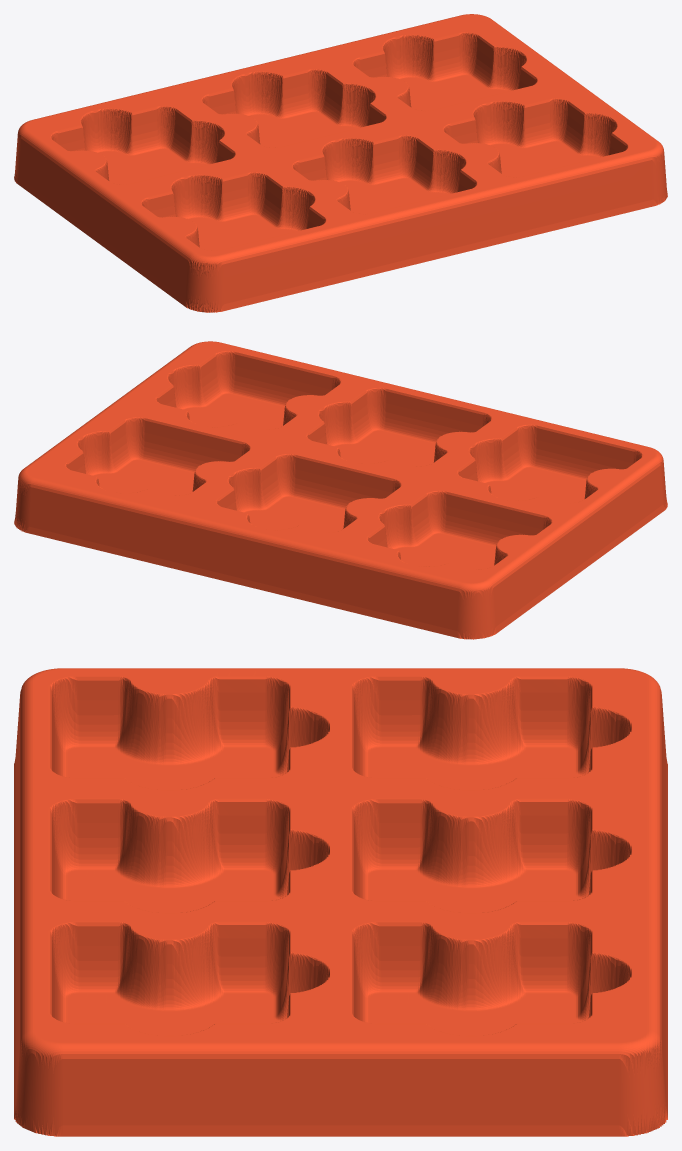
The model's file is mold.glb.
3 views of the same model, one above another, from view 1: azimuth 30°, elevation 25°; view 2: azimuth 150°, elevation 25°; view 3: azimuth 270°, elevation 25° (orthographic). The views are drawn at different scales.
Visible parts, largest first — view 1: geometry_0; view 2: geometry_0; view 3: geometry_0.
Boxes of the visible parts, x1=… form: geometry_0: x1=14, y1=14, x2=667, y2=312; geometry_0: x1=14, y1=341, x2=667, y2=639; geometry_0: x1=14, y1=668, x2=667, y2=1136.
Size of the model in its own units: 0.1709 by 0.0175 by 0.1211.
